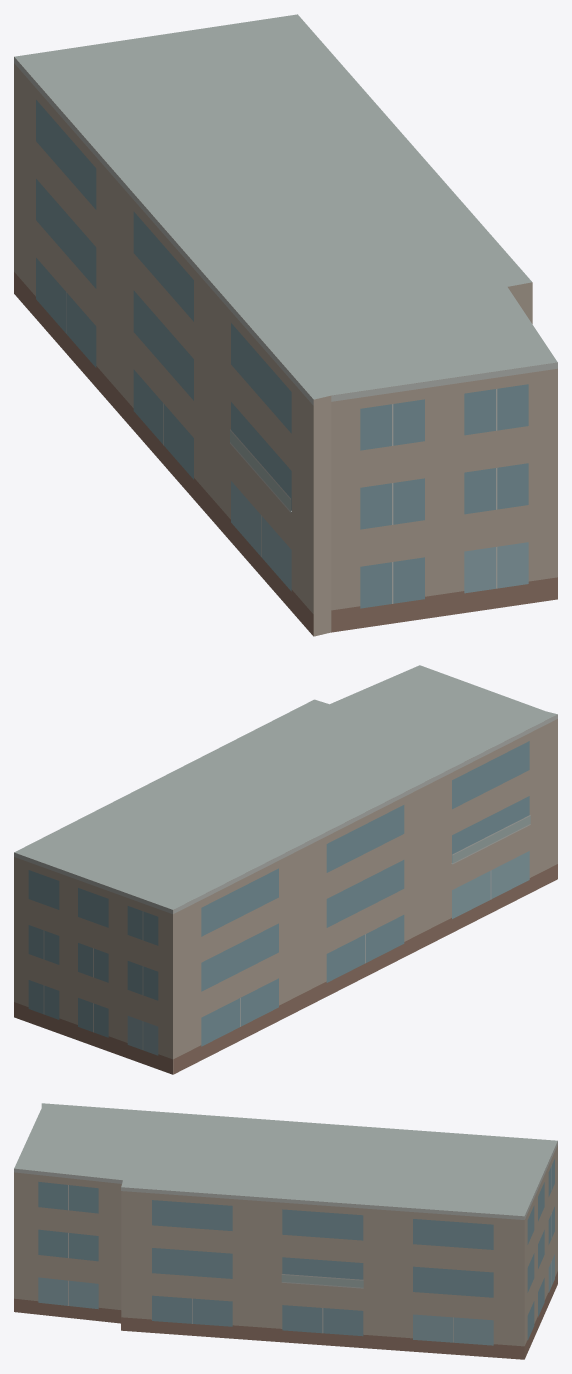
File: survey-upis-32673451.glb
3 renders of one model, top to bottom at view 1: azimuth 30°, elevation 25°; view 2: azimuth 150°, elevation 25°; view 3: azimuth 270°, elevation 25°, orthographic. The views are drawn at different scales.
Parts seen in each view (by area): view 1: survey-upis-32673451.tmp; view 2: survey-upis-32673451.tmp; view 3: survey-upis-32673451.tmp.
Boxes of the visible parts, box(x1,y1,x2,y2) form: survey-upis-32673451.tmp: box(14, 14, 557, 636); survey-upis-32673451.tmp: box(14, 665, 557, 1074); survey-upis-32673451.tmp: box(14, 1103, 557, 1359).
Size of the model in its own units: 15.48 by 9.15 by 31.45.
